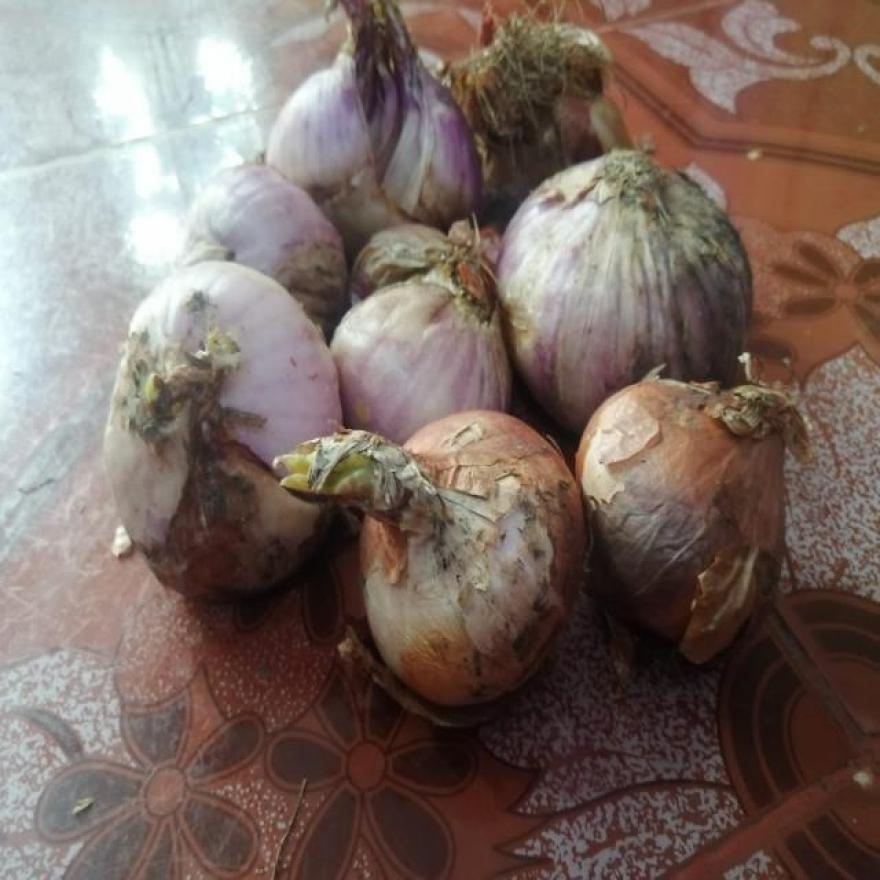Rotten: (607, 501, 738, 631), (174, 447, 270, 594), (338, 23, 414, 160), (678, 180, 741, 298), (355, 254, 441, 302), (286, 251, 342, 296)
Sprouted: (279, 437, 385, 488)
